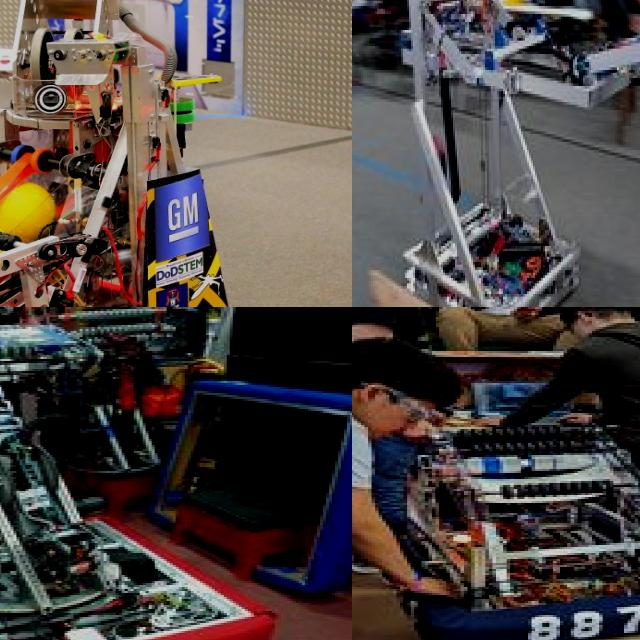FRC-Robots: (0, 311, 352, 640), (0, 0, 326, 307), (352, 370, 640, 640), (379, 0, 593, 307)
